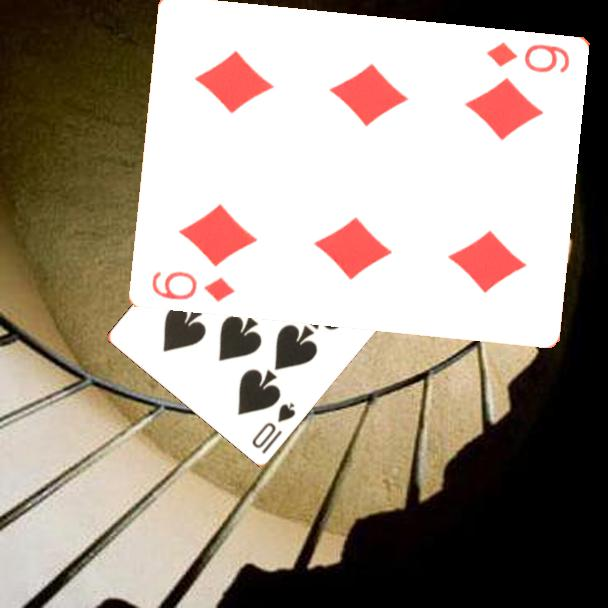d06: (483, 38, 573, 75), (149, 267, 239, 304)
s10: (248, 398, 298, 456)
